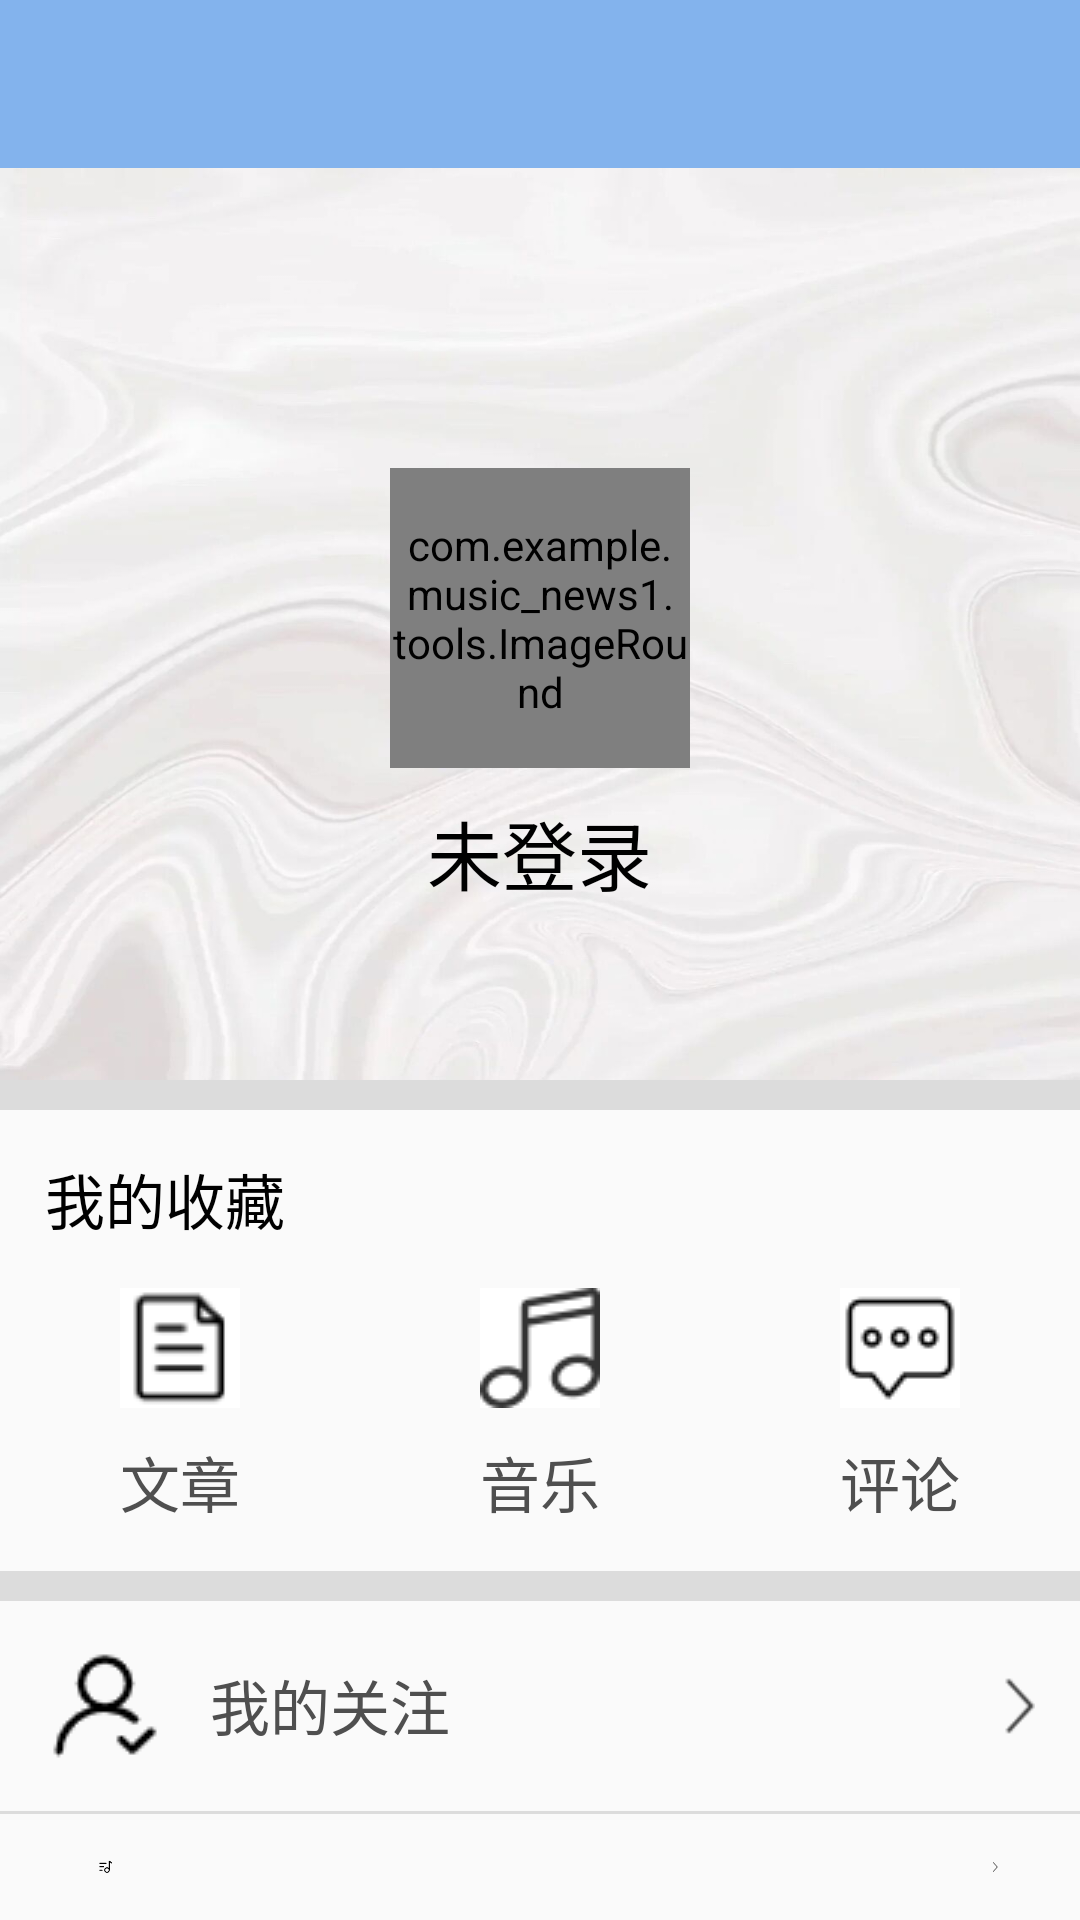

Where icons sit on this 1080 × 1920 app screen, as (x1, y1, x2, y2):
comment: (845, 1297, 955, 1400)
focus: (53, 1654, 157, 1757)
music: (480, 1288, 600, 1408)
